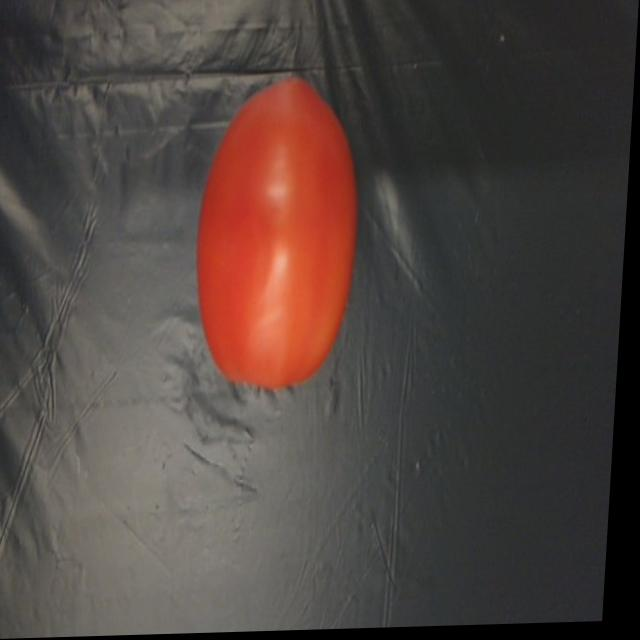sari: (186, 71, 368, 427)
